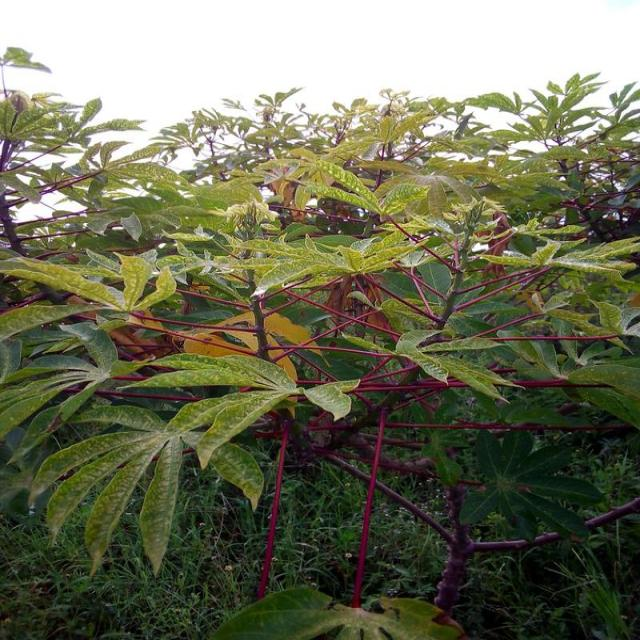cassava leaf: (2, 52, 639, 609)
